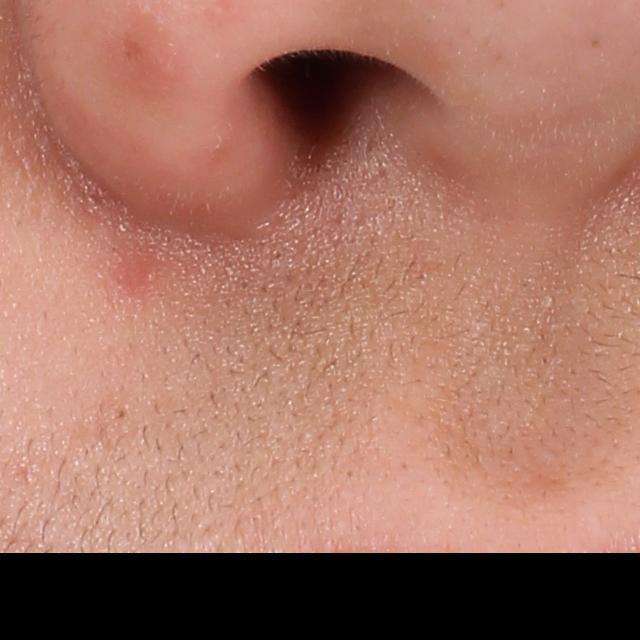comedo: (110, 401, 134, 425)
